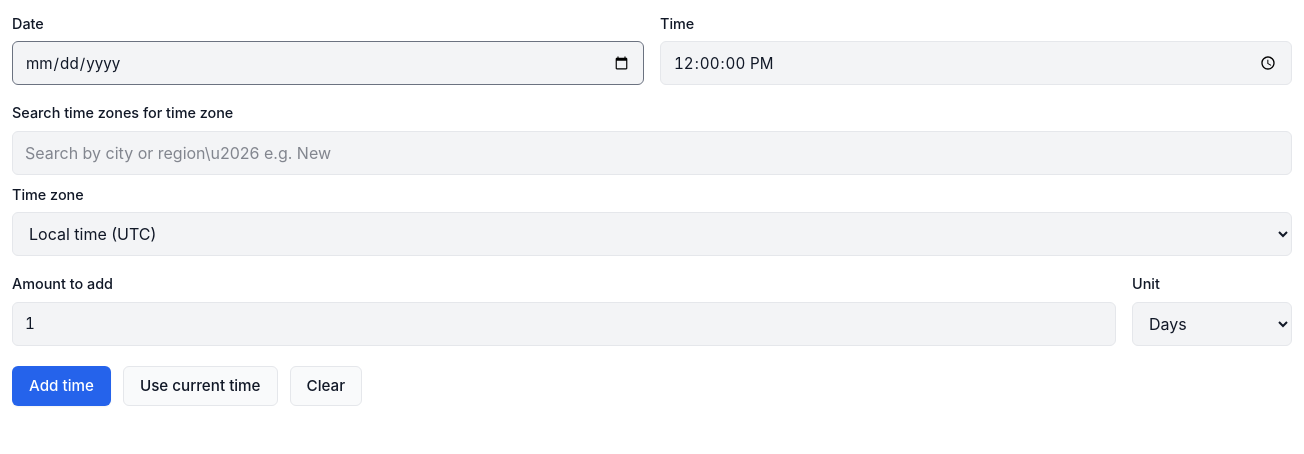
Scenario: Add / Subtract Time Calculator › rejects a negative amount
Type "2026-09-21" into the date field labelled "Date". click: (328,63)
box: 12,41 -> 644,85
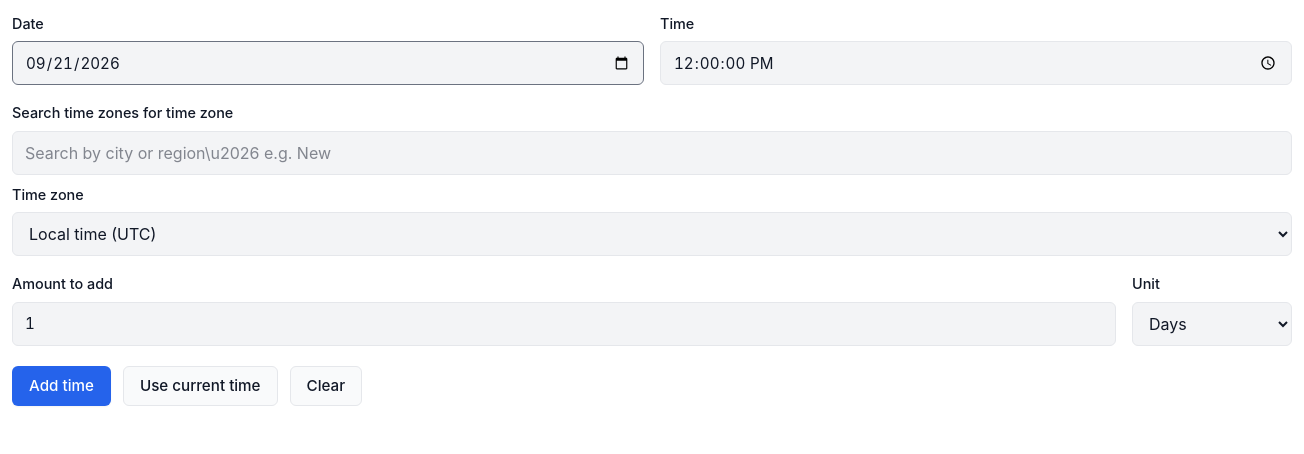
Replace the text in the field labelled "Amount to add" with "-5". click: (564,324)
box: 12,302 -> 1116,346
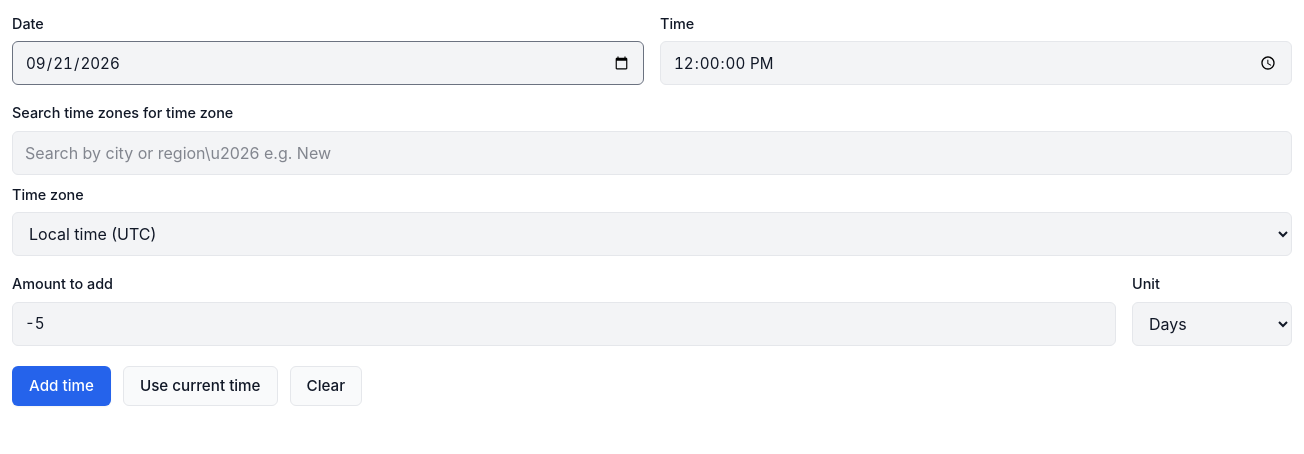
Click the button "Add time". click: (61,386)
box: 12,366 -> 111,406
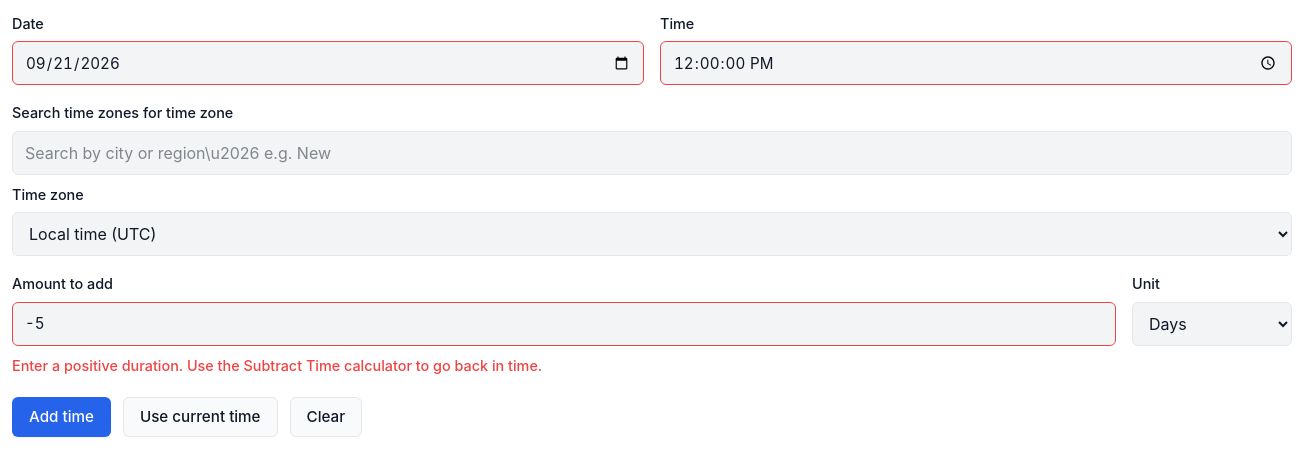
Now the message shows "positive duration", box 12,357 -> 542,374
